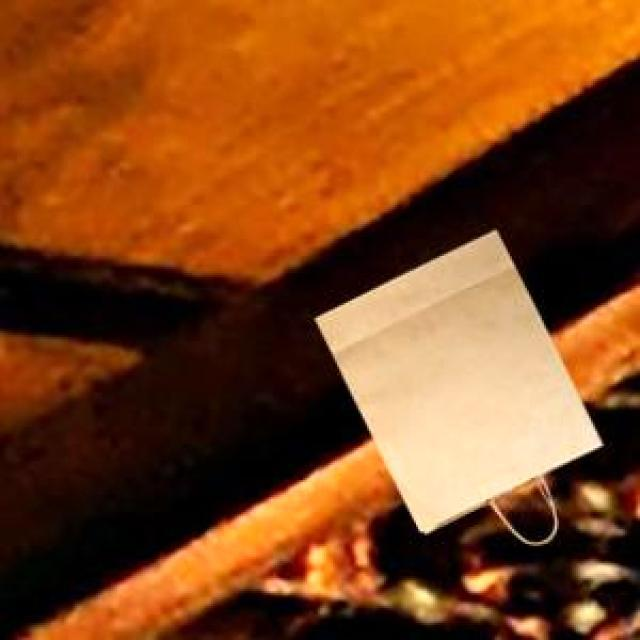Paper_Bag: (312, 227, 598, 530)
